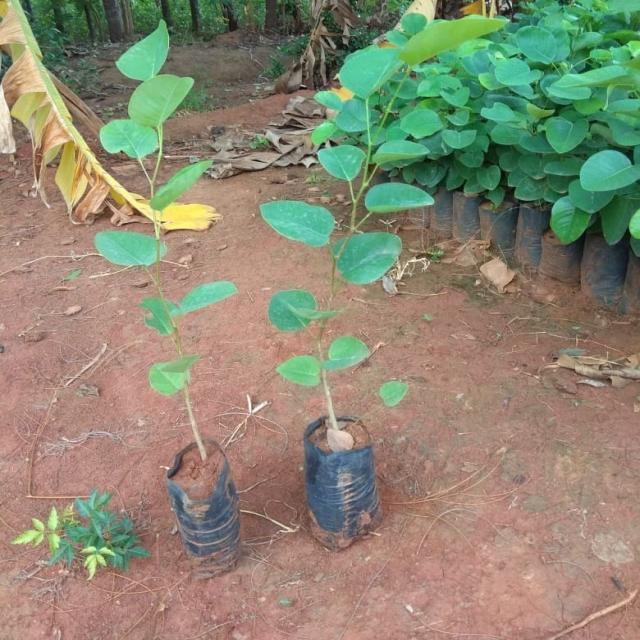Medicinal-Sandalwood: (88, 17, 441, 435), (344, 19, 640, 236)
